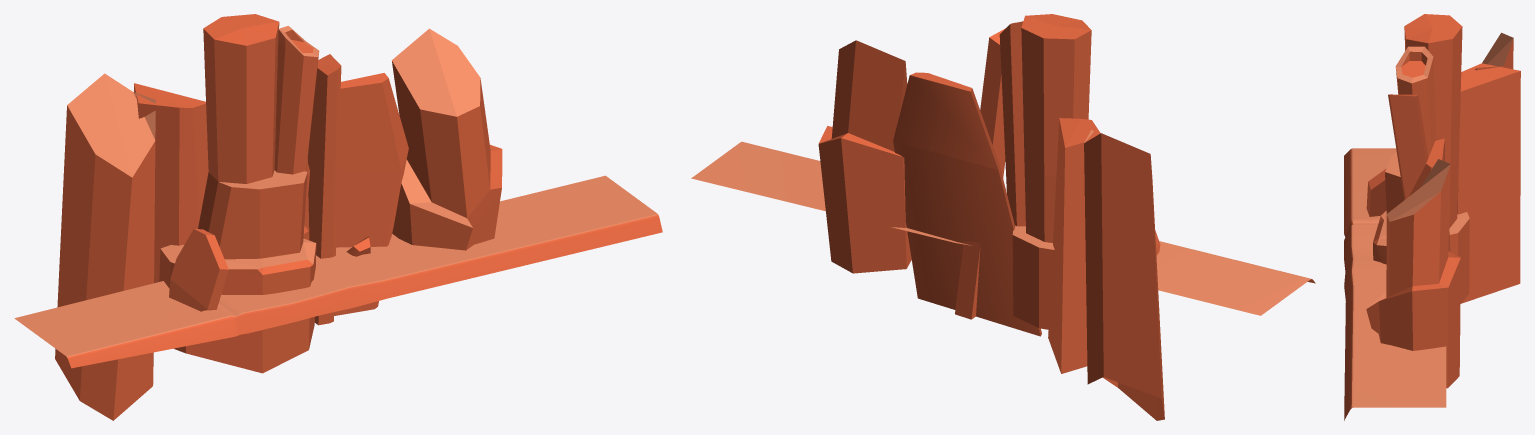
3 renders of one model, left to right at view 1: azimuth 30°, elevation 25°; view 2: azimuth 150°, elevation 25°; view 3: azimuth 270°, elevation 25°, orthographic. The views are drawn at different scales.
Parts seen in each view (by area): view 1: polySurface2, polySurface1; view 2: polySurface2, polySurface1; view 3: polySurface2, polySurface1.
Boxes of the visible parts, bbox=[...] form: polySurface2: bbox=[55, 14, 502, 420]; polySurface1: bbox=[14, 175, 662, 368]; polySurface2: bbox=[818, 14, 1164, 420]; polySurface1: bbox=[691, 141, 1315, 315]; polySurface2: bbox=[1366, 14, 1520, 388]; polySurface1: bbox=[1344, 148, 1446, 420].
Bounding box in the file's own units: 23133 × 13941 × 6696.
